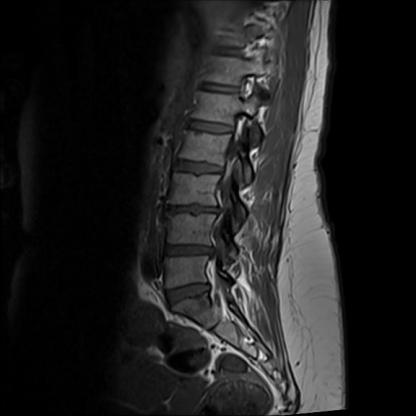Disc Bulgerotation: (159, 239, 222, 266), (162, 197, 223, 222), (160, 282, 216, 307)
